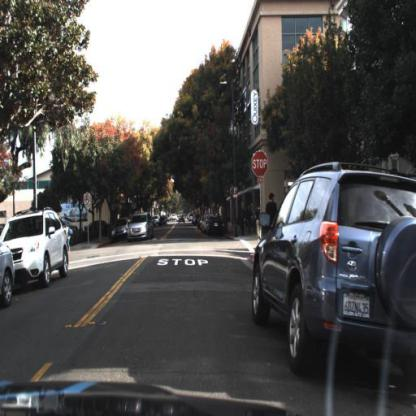car: (253, 162, 415, 393), (2, 207, 72, 290), (11, 206, 68, 287), (127, 212, 158, 241), (127, 213, 155, 245), (206, 215, 227, 239), (112, 217, 129, 244)
pedestrian: (265, 190, 280, 226), (255, 206, 263, 243), (64, 224, 74, 252)
